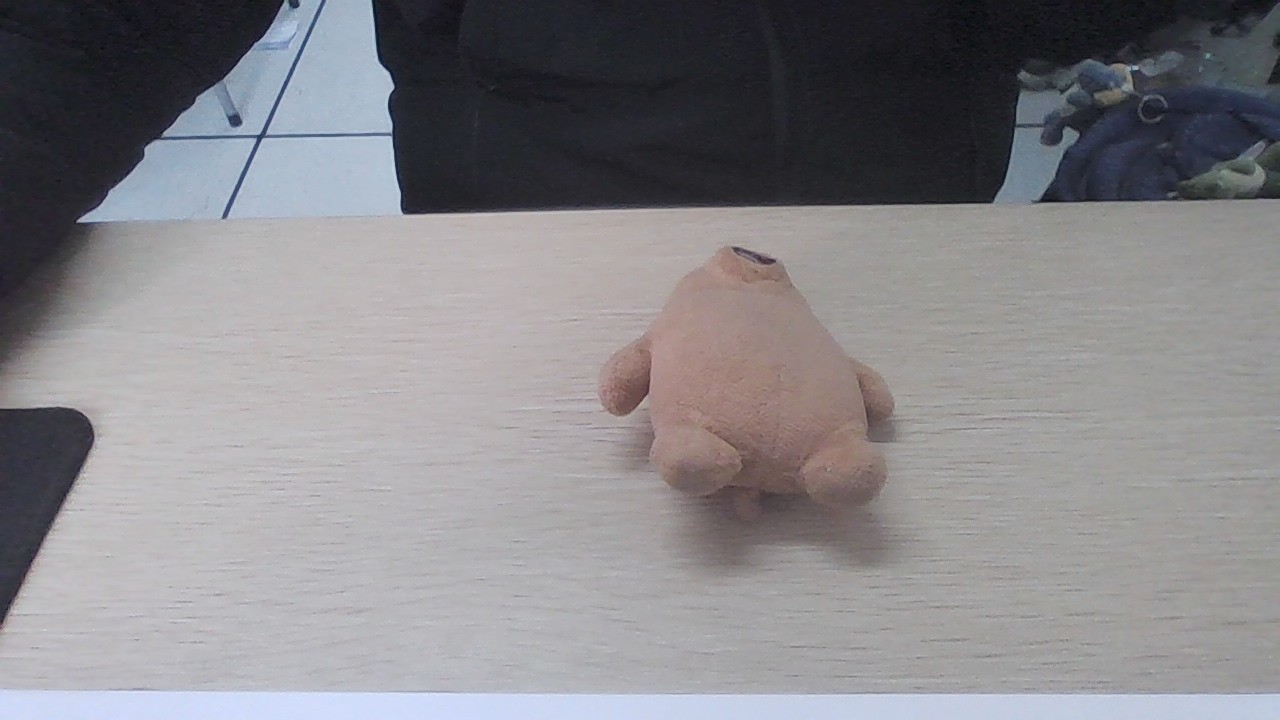KHS-doll: (637, 251, 868, 511)
